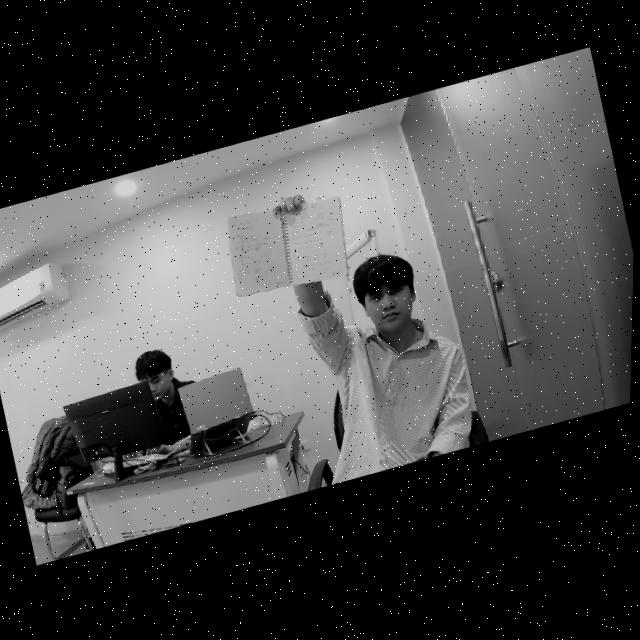document: (227, 196, 348, 296)
face: (356, 258, 424, 339), (136, 348, 184, 412)
